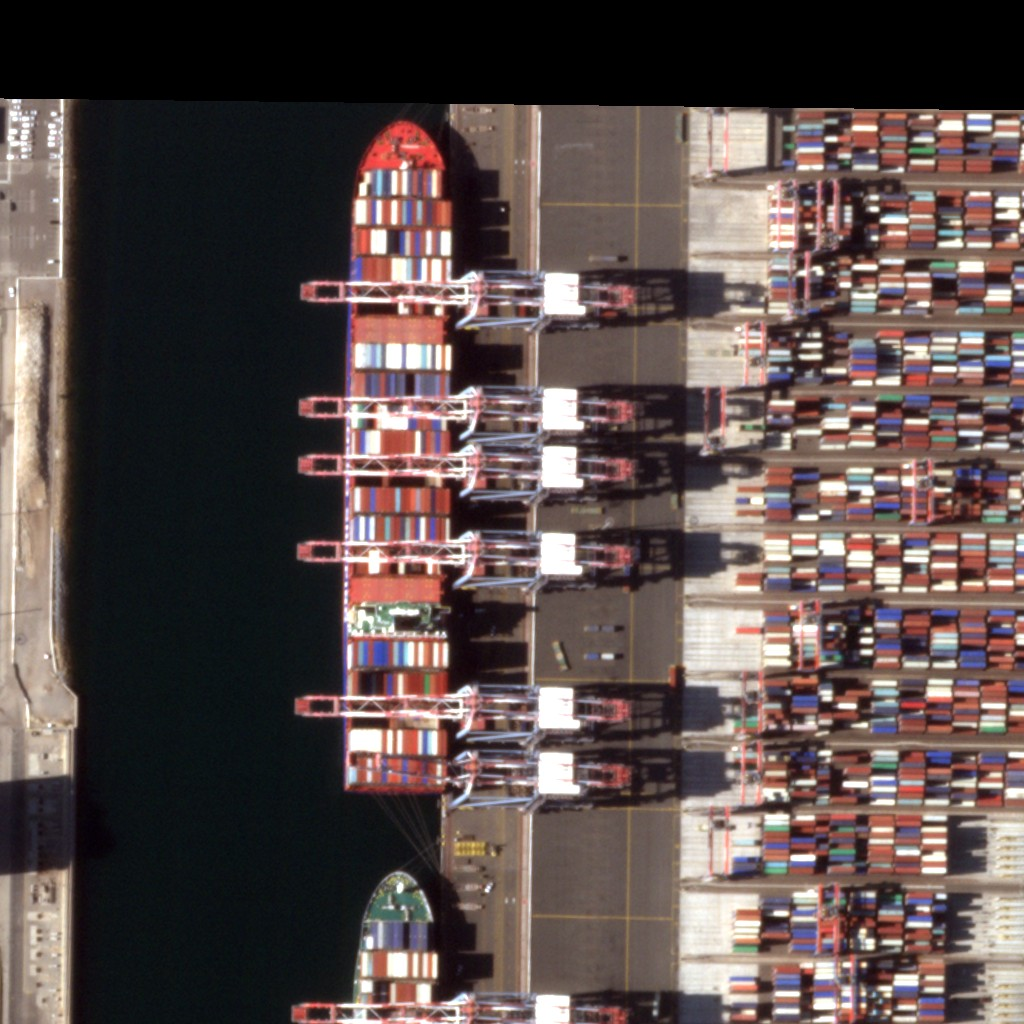boats: (348, 112, 448, 800), (354, 872, 443, 1023)
cranes: (294, 686, 630, 736), (293, 390, 635, 429), (299, 277, 624, 317), (299, 456, 634, 488), (307, 542, 640, 573), (299, 1000, 651, 1019)
